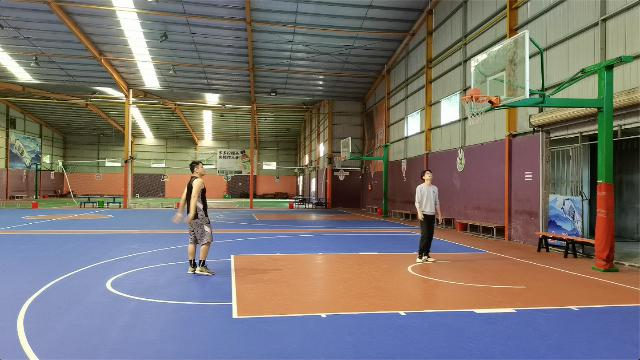ball: (467, 88, 481, 99)
basket: (460, 95, 490, 124)
